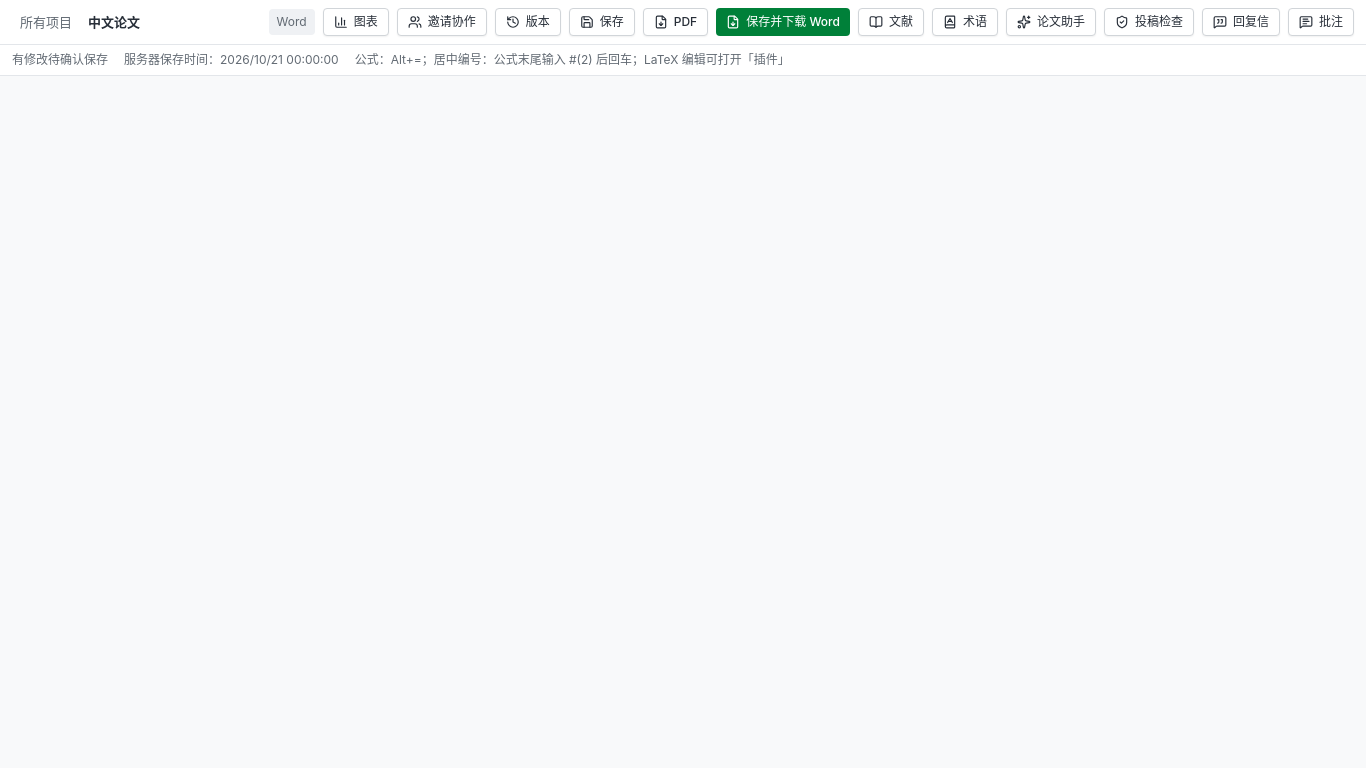
Test: Word 工作台 › 保存未确认时可显式下载历史版本，但不清除未保存标记或冒充当前修改成功
Click the button with test id "word-download": [783, 22] box [716, 8, 850, 36]
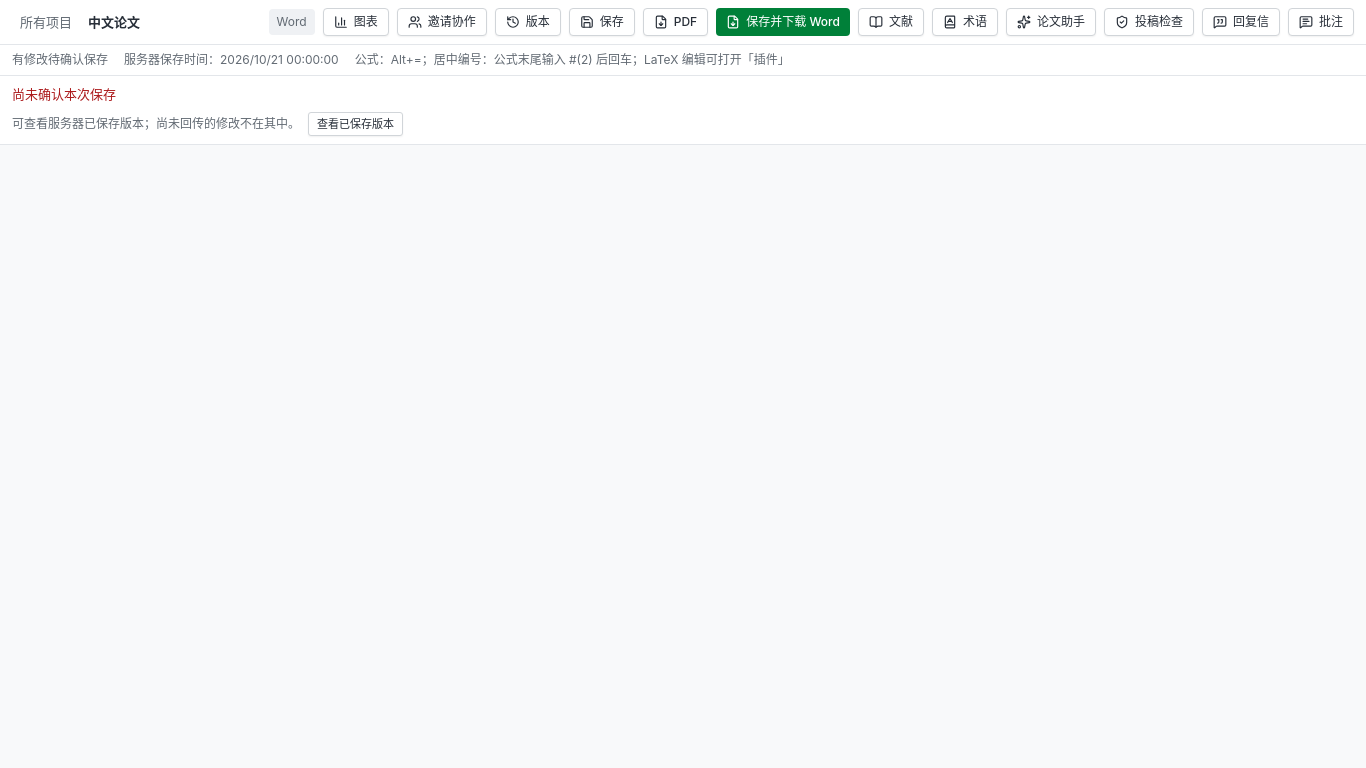
Click the button "查看已保存版本": [356, 124] box [308, 112, 403, 136]
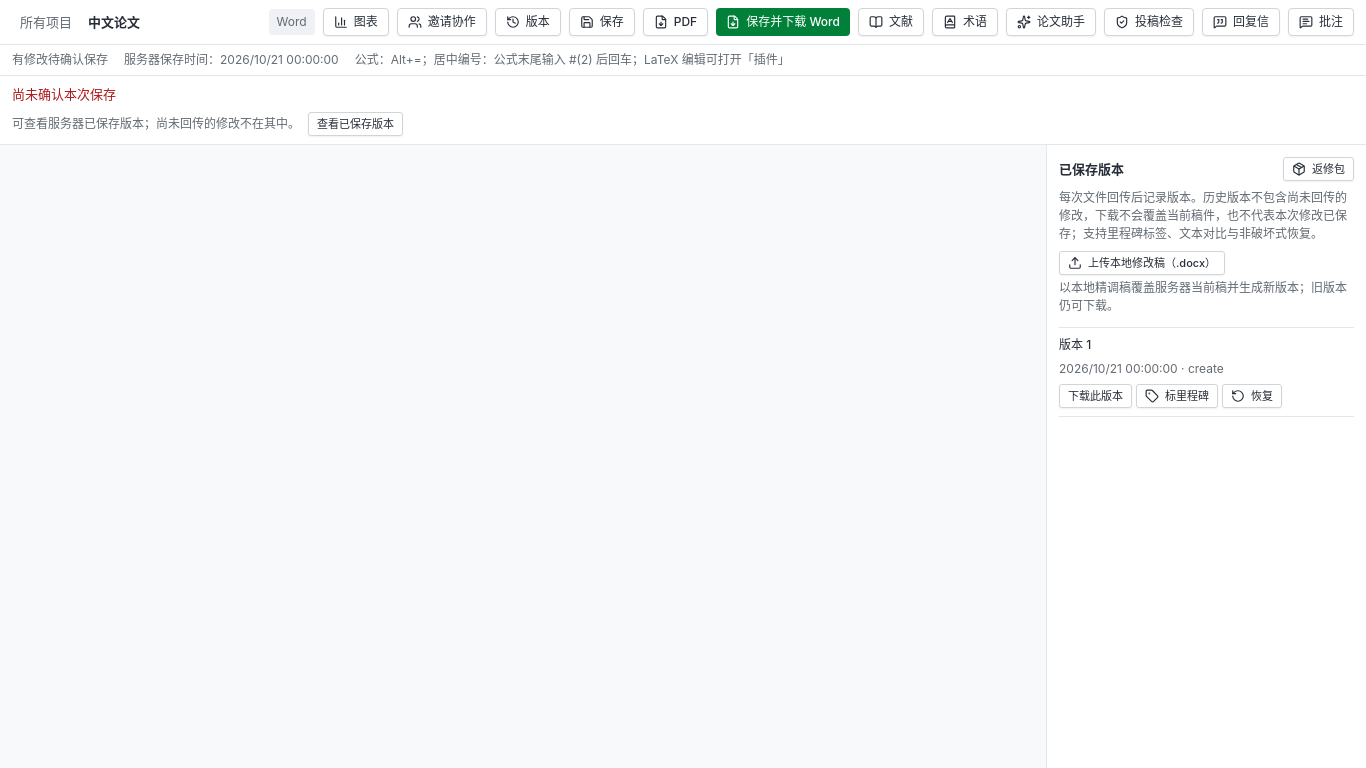
Check: the text "历史版本不包含尚未回传的修改" is shown, box [1059, 190, 1347, 241]
Click the button "下载此版本": [1096, 396] box [1059, 384, 1132, 408]
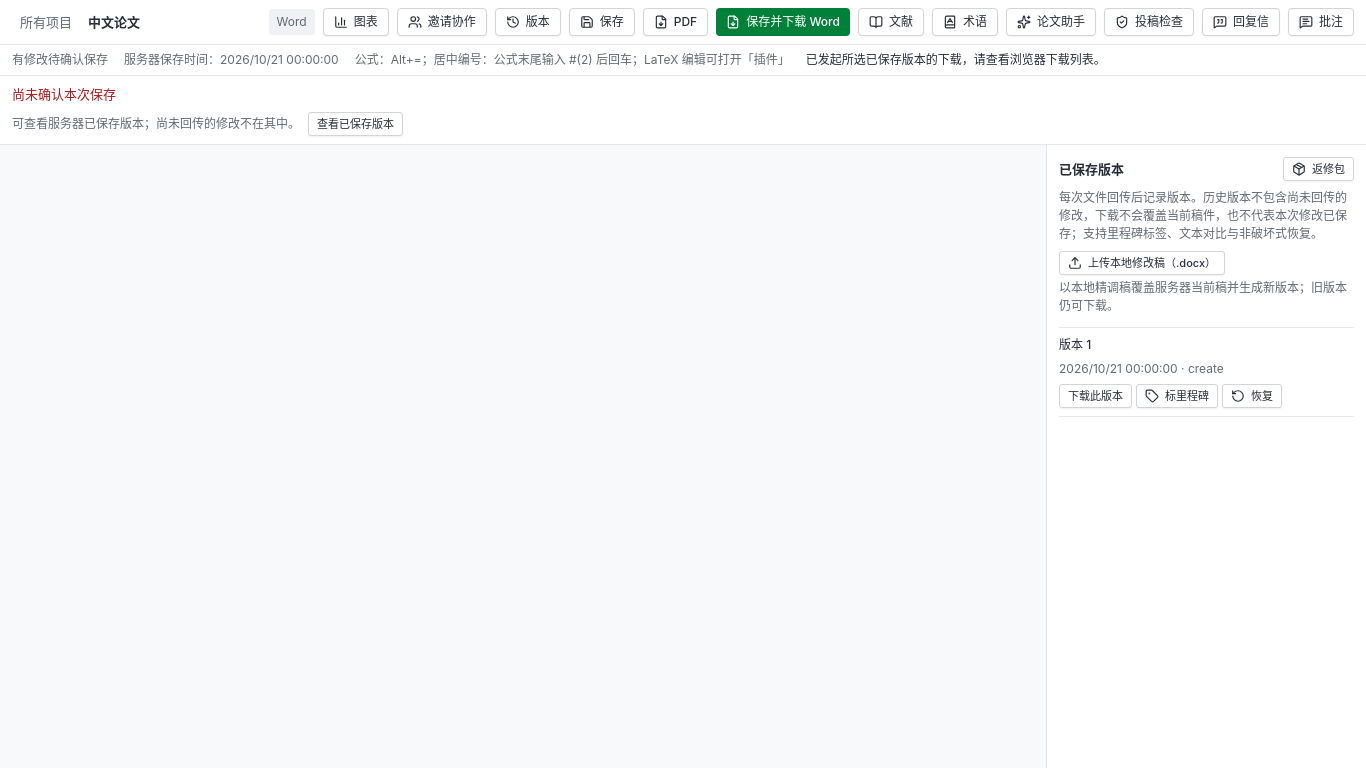
Check: the text "有修改待确认保存" is shown, box [12, 51, 108, 69]
Check: the text "尚未确认本次保存" is shown, box [12, 86, 116, 102]
Check: the text "已发起所选已保存版本的下载" is shown, box [806, 52, 1106, 67]
